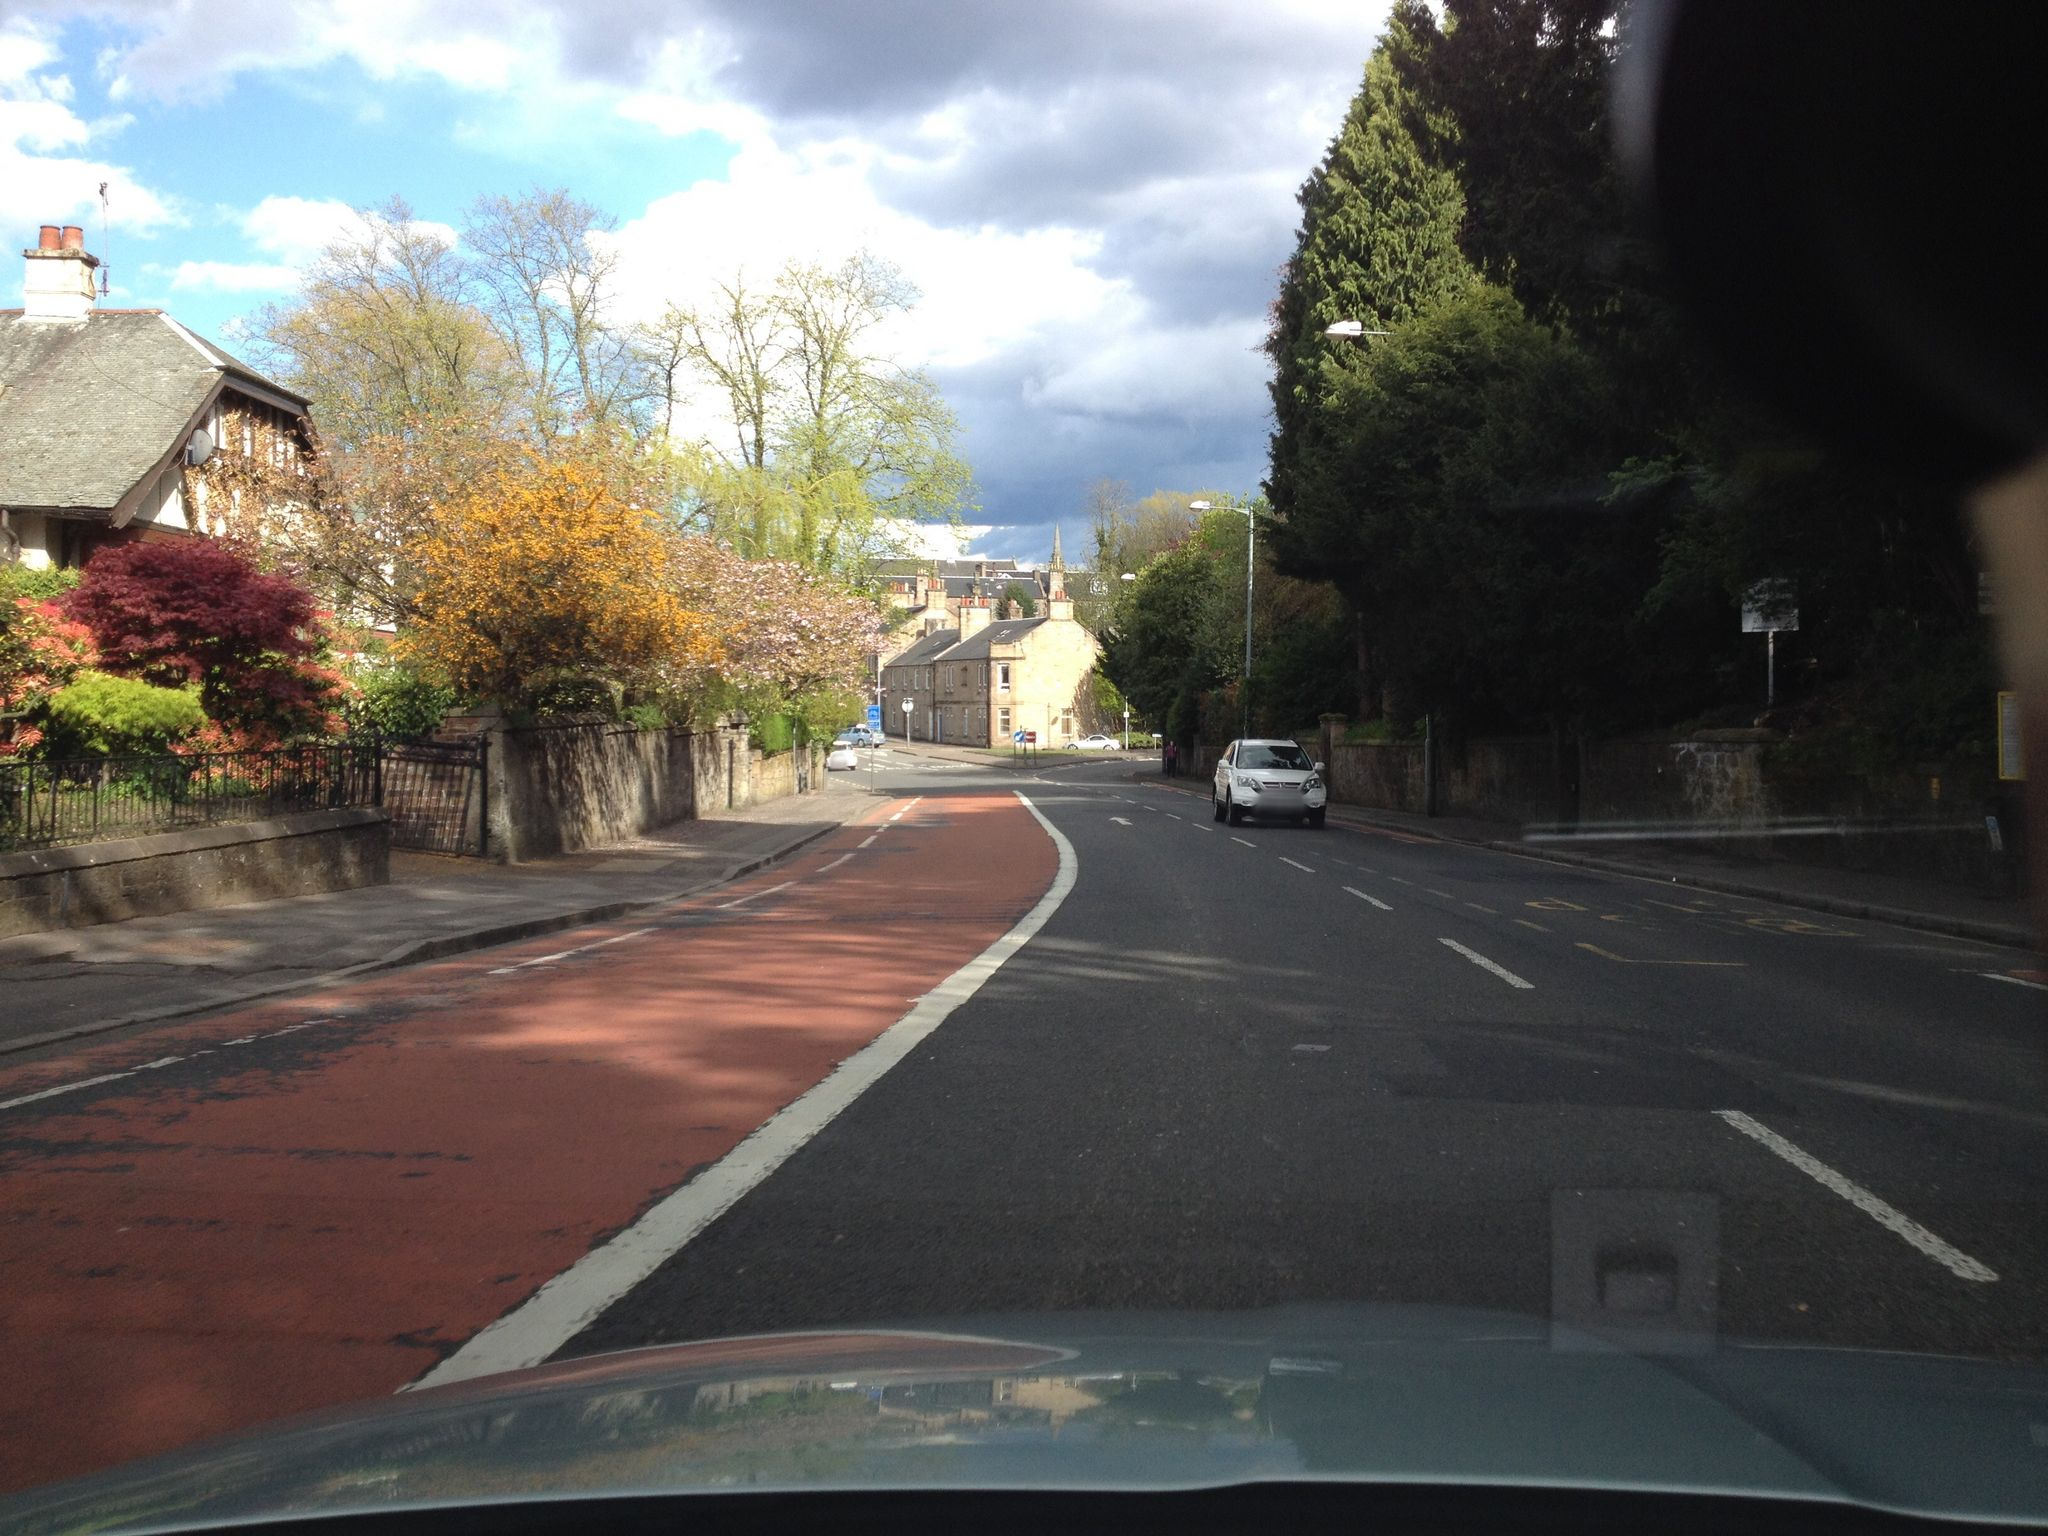car: (1214, 737, 1327, 824), (837, 724, 885, 747), (826, 741, 858, 771), (1064, 734, 1121, 750)
